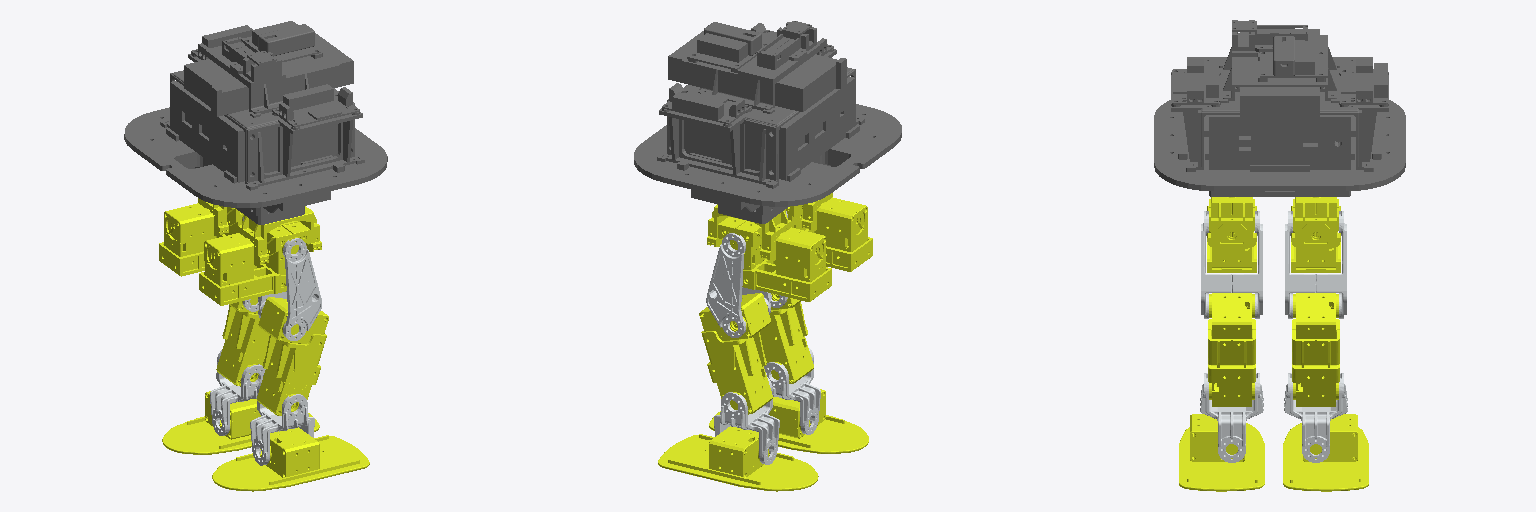
The robot description file, URDF, robot "exhx5_w_b_16":
<?xml version="1.0" encoding="utf-8"?>
<!-- This URDF was automatically created by SolidWorks to URDF Exporter! Originally created by [author] ([email redacted]) 
     Commit Version: 1.5.1-0-g916b5db  Build Version: 1.5.7152.31018
     For more information, please see http://wiki.ros.org/sw_urdf_exporter -->
<robot
  name="exhx5_w_b_16">
  <link
    name="body_link">
    <inertial>
      <origin
        xyz="0.00043545 0.00025536 0.10071"
        rpy="0 0 0" />
      <mass
        value="1.8238" />
      <inertia
        ixx="0.0025905"
        ixy="-5.6852E-06"
        ixz="-1.3106E-05"
        iyy="0.0024595"
        iyz="-1.261E-06"
        izz="0.0046407" />
    </inertial>
    <visual>
      <origin
        xyz="0 0 0"
        rpy="0 0 0" />
      <geometry>
        <mesh
          filename="../meshes/body_link.STL" />
      </geometry>
      <material
        name="">
        <color
          rgba="0.49804 0.49804 0.49804 1" />
      </material>
    </visual>
    <collision>
      <origin
        xyz="0 0 0"
        rpy="0 0 0" />
      <geometry>
        <mesh
          filename="../meshes/body_link.STL" />
      </geometry>
    </collision>
  </link>

  <link
    name="imu_link">
    <inertial>
      <origin
        xyz="-0.008387 1.336E-17 -0.0069463"
        rpy="0 0 0" />
      <mass
        value="0.0062931" />
      <inertia
        ixx="3.2242E-07"
        ixy="3.3527E-22"
        ixz="-6.9193E-08"
        iyy="9.2229E-07"
        iyz="-8.0392E-22"
        izz="1.1018E-06" />
    </inertial>
    <visual>
      <origin
        xyz="0 0 0"
        rpy="0 0 0" />
      <geometry>
        <mesh
          filename="../meshes/imu_link.STL" />
      </geometry>
      <material
        name="">
        <color
          rgba="0.79216 0.81961 0.93333 1" />
      </material>
    </visual>
    <collision>
      <origin
        xyz="0 0 0"
        rpy="0 0 0" />
      <geometry>
        <mesh
          filename="../meshes/imu_link.STL" />
      </geometry>
    </collision>
  </link>
  <joint
    name="imu"
    type="fixed">
    <origin
      xyz="0 0 0.0492"
      rpy="0 0 0" />
    <parent
      link="body_link" />
    <child
      link="imu_link" />
    <axis
      xyz="0 0 0" />
    <limit
      lower="-3.14"
      upper="3.14"
      effort="4"
      velocity="4" />
  </joint>
  <link
    name="l_hip_g_link">
    <inertial>
      <origin
        xyz="-0.0043797 -8.6604E-08 0.011813"
        rpy="0 0 0" />
      <mass
        value="0.061008" />
      <inertia
        ixx="1.167E-05"
        ixy="7.1767E-11"
        ixz="9.1442E-09"
        iyy="2.2342E-05"
        iyz="2.5177E-11"
        izz="2.4892E-05" />
    </inertial>
    <visual>
      <origin
        xyz="0 0 0"
        rpy="0 0 0" />
      <geometry>
        <mesh
          filename="../meshes/l_hip_g_link.STL" />
      </geometry>
      <material
        name="">
        <color
          rgba="0.9451 1 0.18431 1" />
      </material>
    </visual>
    <collision>
      <origin
        xyz="0 0 0"
        rpy="0 0 0" />
      <geometry>
        <mesh
          filename="../meshes/l_hip_g_link.STL" />
      </geometry>
    </collision>
  </link>
  <joint
    name="l_hip_g"
    type="fixed">
    <origin
      xyz="-.001 .030 0"
      rpy="0 0 0" />
    <parent
      link="body_link" />
    <child
      link="l_hip_g_link" />
    <axis
      xyz="0 0 0" />
  </joint>
  <link
    name="l_hip_roll_link">
    <inertial>
      <origin
        xyz="0.013831 0.00033457 0.025453"
        rpy="0 0 0" />
      <mass
        value="0.2969" />
      <inertia
        ixx="7.8136E-05"
        ixy="7.265E-07"
        ixz="-6.9809E-08"
        iyy="9.2183E-05"
        iyz="-5.6881E-11"
        izz="7.1034E-05" />
    </inertial>
    <visual>
      <origin
        xyz="0 0 0"
        rpy="0 0 0" />
      <geometry>
        <mesh
          filename="../meshes/l_hip_roll_link.STL" />
      </geometry>
      <material
        name="">
        <color
          rgba="0.9451 1 0.18431 1" />
      </material>
    </visual>
    <collision>
      <origin
        xyz="0 0 0"
        rpy="0 0 0" />
      <geometry>
        <mesh
          filename="../meshes/l_hip_roll_link.STL" />
      </geometry>
    </collision>
  </link>
  <joint
    name="l_hip_roll"
    type="revolute">
    <origin
      xyz="0 0 0"
      rpy="3.1416 1.5708 0" />
    <parent
      link="l_hip_g_link" />
    <child
      link="l_hip_roll_link" />
    <axis
      xyz="0 0 1" />
    <limit
      lower="-3.14"
      upper="3.14"
      effort="4"
      velocity="4" />
  </joint>
  <link
    name="l_hip_pitch_link">
    <inertial>
      <origin
        xyz="0.041225 -0.007321 -5.0713E-08"
        rpy="0 0 0" />
      <mass
        value="0.051592" />
      <inertia
        ixx="2.7959E-05"
        ixy="2.0752E-06"
        ixz="-8.0934E-11"
        iyy="4.8156E-05"
        iyz="3.6317E-11"
        izz="2.9604E-05" />
    </inertial>
    <visual>
      <origin
        xyz="0 0 0"
        rpy="0 0 0" />
      <geometry>
        <mesh
          filename="../meshes/l_hip_pitch_link.STL" />
      </geometry>
      <material
        name="">
        <color
          rgba="0.89804 0.91765 0.92941 1" />
      </material>
    </visual>
    <collision>
      <origin
        xyz="0 0 0"
        rpy="0 0 0" />
      <geometry>
        <mesh
          filename="../meshes/l_hip_pitch_link.STL" />
      </geometry>
    </collision>
  </link>
  <joint
    name="l_hip_pitch"
    type="revolute">
    <origin
      xyz="0 0 0"
      rpy="1.5708 0 0" />
    <parent
      link="l_hip_roll_link" />
    <child
      link="l_hip_pitch_link" />
    <axis
      xyz="0 0 1" />
    <limit
      lower="-3.14"
      upper="3.14"
      effort="4"
      velocity="4" />
  </joint>
  <link
    name="l_knee_link">
    <inertial>
      <origin
        xyz="0.033756 -0.0084189 -6.6115E-09"
        rpy="0 0 0" />
      <mass
        value="0.28878" />
      <inertia
        ixx="6.6724E-05"
        ixy="7.5004E-07"
        ixz="-8.4578E-07"
        iyy="6.5699E-05"
        iyz="4.1085E-07"
        izz="7.0381E-05" />
    </inertial>
    <visual>
      <origin
        xyz="0 0 0"
        rpy="0 0 0" />
      <geometry>
        <mesh
          filename="../meshes/l_knee_link.STL" />
      </geometry>
      <material
        name="">
        <color
          rgba="0.9451 1 0.18431 1" />
      </material>
    </visual>
    <collision>
      <origin
        xyz="0 0 0"
        rpy="0 0 0" />
      <geometry>
        <mesh
          filename="../meshes/l_knee_link.STL" />
      </geometry>
    </collision>
  </link>
  <joint
    name="l_knee"
    type="revolute">
    <origin
      xyz="0.075954 0 0"
      rpy="0 0 0" />
    <parent
      link="l_hip_pitch_link" />
    <child
      link="l_knee_link" />
    <axis
      xyz="0 0 1" />
    <limit
      lower="-3.14"
      upper="3.14"
      effort="4"
      velocity="4" />
  </joint>
  <link
    name="l_ank_pitch_link">
    <inertial>
      <origin
        xyz="0.022786 -7.3909E-09 -7.1981E-06"
        rpy="0 0 0" />
      <mass
        value="0.044772" />
      <inertia
        ixx="1.777E-05"
        ixy="8.555E-14"
        ixz="-3.3713E-09"
        iyy="1.7119E-05"
        iyz="1.7593E-11"
        izz="1.8661E-05" />
    </inertial>
    <visual>
      <origin
        xyz="0 0 0"
        rpy="0 0 0" />
      <geometry>
        <mesh
          filename="../meshes/l_ank_pitch_link.STL" />
      </geometry>
      <material
        name="">
        <color
          rgba="0.89804 0.91765 0.92941 1" />
      </material>
    </visual>
    <collision>
      <origin
        xyz="0 0 0"
        rpy="0 0 0" />
      <geometry>
        <mesh
          filename="../meshes/l_ank_pitch_link.STL" />
      </geometry>
    </collision>
  </link>
  <joint
    name="l_ank_pitch"
    type="revolute">
    <origin
      xyz="0.074602 0 0"
      rpy="3.1416 0 0" />
    <parent
      link="l_knee_link" />
    <child
      link="l_ank_pitch_link" />
    <axis
      xyz="0 0 1" />
    <limit
      lower="-3.14"
      upper="3.14"
      effort="4"
      velocity="4" />
  </joint>
  <link
    name="l_ank_roll_link">
    <inertial>
      <origin
        xyz="0.0047069 0.010728 0.0015299"
        rpy="0 0 0" />
      <mass
        value="0.16774" />
      <inertia
        ixx="0.00012039"
        ixy="-3.7428E-09"
        ixz="4.4069E-08"
        iyy="8.7735E-05"
        iyz="7.0469E-07"
        izz="4.7866E-05" />
    </inertial>
    <visual>
      <origin
        xyz="0 0 0"
        rpy="0 0 0" />
      <geometry>
        <mesh
          filename="../meshes/l_ank_roll_link.STL" />
      </geometry>
      <material
        name="">
        <color
          rgba="0.9451 1 0.18431 1" />
      </material>
    </visual>
    <collision>
      <origin
        xyz="0 0 0"
        rpy="0 0 0" />
      <geometry>
        <mesh
          filename="../meshes/l_ank_roll_link.STL" />
      </geometry>
    </collision>
  </link>
  <joint
    name="l_ank_roll"
    type="revolute">
    <origin
      xyz="0.0465 0 0"
      rpy="-1.5708 0 0" />
    <parent
      link="l_ank_pitch_link" />
    <child
      link="l_ank_roll_link" />
    <axis
      xyz="0 0 1" />
    <limit
      lower="-3.14"
      upper="3.14"
      effort="4"
      velocity="4" />
  </joint>
  <link
    name="r_hip_g_link">
    <inertial>
      <origin
        xyz="-0.0043797 -8.6604E-08 0.011813"
        rpy="0 0 0" />
      <mass
        value="0.061008" />
      <inertia
        ixx="1.167E-05"
        ixy="7.1767E-11"
        ixz="9.1442E-09"
        iyy="2.2342E-05"
        iyz="2.5177E-11"
        izz="2.4892E-05" />
    </inertial>
    <visual>
      <origin
        xyz="0 0 0"
        rpy="0 0 0" />
      <geometry>
        <mesh
          filename="../meshes/r_hip_g_link.STL" />
      </geometry>
      <material
        name="">
        <color
          rgba="0.9451 1 0.18431 1" />
      </material>
    </visual>
    <collision>
      <origin
        xyz="0 0 0"
        rpy="0 0 0" />
      <geometry>
        <mesh
          filename="../meshes/r_hip_g_link.STL" />
      </geometry>
    </collision>
  </link>
  <joint
    name="r_hip_g"
    type="fixed">
    <origin
      xyz="-.001 -.040 0"
      rpy="0 0 0" />
    <parent
      link="body_link" />
    <child
      link="r_hip_g_link" />
    <axis
      xyz="0 0 0" />
  </joint>
  <link
    name="r_hip_roll_link">
    <inertial>
      <origin
        xyz="0.013831 0.00033457 0.025453"
        rpy="0 0 0" />
      <mass
        value="0.2969" />
      <inertia
        ixx="7.8136E-05"
        ixy="7.265E-07"
        ixz="-6.9809E-08"
        iyy="9.2183E-05"
        iyz="-5.6881E-11"
        izz="7.1034E-05" />
    </inertial>
    <visual>
      <origin
        xyz="0 0 0"
        rpy="0 0 0" />
      <geometry>
        <mesh
          filename="../meshes/r_hip_roll_link.STL" />
      </geometry>
      <material
        name="">
        <color
          rgba="0.9451 1 0.18431 1" />
      </material>
    </visual>
    <collision>
      <origin
        xyz="0 0 0"
        rpy="0 0 0" />
      <geometry>
        <mesh
          filename="../meshes/r_hip_roll_link.STL" />
      </geometry>
    </collision>
  </link>
  <joint
    name="r_hip_roll"
    type="revolute">
    <origin
      xyz="0 0 0"
      rpy="3.1416 1.5708 0" />
    <parent
      link="r_hip_g_link" />
    <child
      link="r_hip_roll_link" />
    <axis
      xyz="0 0 1" />
    <limit
      lower="-3.14"
      upper="3.14"
      effort="4"
      velocity="4" />
  </joint>
  <link
    name="r_hip_pitch_link">
    <inertial>
      <origin
        xyz="0.041225 0.007321 5.0713E-08"
        rpy="0 0 0" />
      <mass
        value="0.051592" />
      <inertia
        ixx="2.7959E-05"
        ixy="-2.0752E-06"
        ixz="8.0934E-11"
        iyy="4.8156E-05"
        iyz="3.6317E-11"
        izz="2.9604E-05" />
    </inertial>
    <visual>
      <origin
        xyz="0 0 0"
        rpy="0 0 0" />
      <geometry>
        <mesh
          filename="../meshes/r_hip_pitch_link.STL" />
      </geometry>
      <material
        name="">
        <color
          rgba="0.89804 0.91765 0.92941 1" />
      </material>
    </visual>
    <collision>
      <origin
        xyz="0 0 0"
        rpy="0 0 0" />
      <geometry>
        <mesh
          filename="../meshes/r_hip_pitch_link.STL" />
      </geometry>
    </collision>
  </link>
  <joint
    name="r_hip_pitch"
    type="revolute">
    <origin
      xyz="0 0 0"
      rpy="-1.5708 0 0" />
    <parent
      link="r_hip_roll_link" />
    <child
      link="r_hip_pitch_link" />
    <axis
      xyz="0 0 1" />
    <limit
      lower="-3.14"
      upper="3.14"
      effort="4"
      velocity="4" />
  </joint>
  <link
    name="r_knee_link">
    <inertial>
      <origin
        xyz="0.033757 0.0084176 6.6115E-09"
        rpy="0 0 0" />
      <mass
        value="0.28878" />
      <inertia
        ixx="6.6724E-05"
        ixy="-7.5008E-07"
        ixz="8.458E-07"
        iyy="6.5699E-05"
        iyz="4.1081E-07"
        izz="7.0381E-05" />
    </inertial>
    <visual>
      <origin
        xyz="0 0 0"
        rpy="0 0 0" />
      <geometry>
        <mesh
          filename="../meshes/r_knee_link.STL" />
      </geometry>
      <material
        name="">
        <color
          rgba="0.9451 1 0.18431 1" />
      </material>
    </visual>
    <collision>
      <origin
        xyz="0 0 0"
        rpy="0 0 0" />
      <geometry>
        <mesh
          filename="../meshes/r_knee_link.STL" />
      </geometry>
    </collision>
  </link>
  <joint
    name="r_knee"
    type="revolute">
    <origin
      xyz="0.075954 0 0"
      rpy="0 0 0" />
    <parent
      link="r_hip_pitch_link" />
    <child
      link="r_knee_link" />
    <axis
      xyz="0 0 1" />
    <limit
      lower="-3.14"
      upper="3.14"
      effort="4"
      velocity="4" />
  </joint>
  <link
    name="r_ank_pitch_link">
    <inertial>
      <origin
        xyz="0.025786 -7.3887E-09 -7.1981E-06"
        rpy="0 0 0" />
      <mass
        value="0.044772" />
      <inertia
        ixx="1.777E-05"
        ixy="8.5434E-14"
        ixz="-3.3713E-09"
        iyy="1.7119E-05"
        iyz="1.7592E-11"
        izz="1.8661E-05" />
    </inertial>
    <visual>
      <origin
        xyz="0 0 0"
        rpy="0 0 0" />
      <geometry>
        <mesh
          filename="../meshes/r_ank_pitch_link.STL" />
      </geometry>
      <material
        name="">
        <color
          rgba="0.89804 0.91765 0.92941 1" />
      </material>
    </visual>
    <collision>
      <origin
        xyz="0 0 0"
        rpy="0 0 0" />
      <geometry>
        <mesh
          filename="../meshes/r_ank_pitch_link.STL" />
      </geometry>
    </collision>
  </link>
  <joint
    name="r_ank_pitch"
    type="revolute">
    <origin
      xyz="0.071602 0 0"
      rpy="3.1416 0 0" />
    <parent
      link="r_knee_link" />
    <child
      link="r_ank_pitch_link" />
    <axis
      xyz="0 0 1" />
    <limit
      lower="-3.14"
      upper="3.14"
      effort="4"
      velocity="4" />
  </joint>
  <link
    name="r_ank_roll_link">
    <inertial>
      <origin
        xyz="0.0077069 -0.010728 0.0015299"
        rpy="0 0 0" />
      <mass
        value="0.16774" />
      <inertia
        ixx="0.00012039"
        ixy="3.743E-09"
        ixz="4.407E-08"
        iyy="8.7735E-05"
        iyz="-7.0467E-07"
        izz="4.7866E-05" />
    </inertial>
    <visual>
      <origin
        xyz="0 0 0"
        rpy="0 0 0" />
      <geometry>
        <mesh
          filename="../meshes/r_ank_roll_link.STL" />
      </geometry>
      <material
        name="">
        <color
          rgba="0.9451 1 0.18431 1" />
      </material>
    </visual>
    <collision>
      <origin
        xyz="0 0 0"
        rpy="0 0 0" />
      <geometry>
        <mesh
          filename="../meshes/r_ank_roll_link.STL" />
      </geometry>
    </collision>
  </link>
  <joint
    name="r_ank_roll"
    type="revolute">
    <origin
      xyz="0.0465 0 0"
      rpy="1.5708 0 0" />
    <parent
      link="r_ank_pitch_link" />
    <child
      link="r_ank_roll_link" />
    <axis
      xyz="0 0 1" />
    <limit
      lower="-3.14"
      upper="3.14"
      effort="4"
      velocity="4" />
  </joint>
  <transmission name="r_hip_roll_tran">
    <type>transmission_interface/SimpleTransmission</type>
    <joint name="r_hip_roll">
      <hardwareInterface>hardware_interface/EffortJointInterface</hardwareInterface>
    </joint>
    <actuator name="r_hip_roll_motor">
      <hardwareInterface>hardware_interface/EffortJointInterface</hardwareInterface>
      <mechanicalReduction>1</mechanicalReduction>
    </actuator>
  </transmission>
  <transmission name="r_hip_pitch_tran">
    <type>transmission_interface/SimpleTransmission</type>
    <joint name="r_hip_pitch">
      <hardwareInterface>hardware_interface/EffortJointInterface</hardwareInterface>
    </joint>
    <actuator name="r_hip_pitch_motor">
      <hardwareInterface>hardware_interface/EffortJointInterface</hardwareInterface>
      <mechanicalReduction>1</mechanicalReduction>
    </actuator>
  </transmission>
  <transmission name="r_knee_tran">
    <type>transmission_interface/SimpleTransmission</type>
    <joint name="r_knee">
      <hardwareInterface>hardware_interface/EffortJointInterface</hardwareInterface>
    </joint>
    <actuator name="r_knee_motor">
      <hardwareInterface>hardware_interface/EffortJointInterface</hardwareInterface>
      <mechanicalReduction>1</mechanicalReduction>
    </actuator>
  </transmission>
  <transmission name="r_ank_pitch_tran">
    <type>transmission_interface/SimpleTransmission</type>
    <joint name="r_ank_pitch">
      <hardwareInterface>hardware_interface/EffortJointInterface</hardwareInterface>
    </joint>
    <actuator name="r_ank_pitch_motor">
      <hardwareInterface>hardware_interface/EffortJointInterface</hardwareInterface>
      <mechanicalReduction>1</mechanicalReduction>
    </actuator>
  </transmission>
  <transmission name="r_ank_roll_tran">
    <type>transmission_interface/SimpleTransmission</type>
    <joint name="r_ank_roll">
      <hardwareInterface>hardware_interface/EffortJointInterface</hardwareInterface>
    </joint>
    <actuator name="r_ank_roll_motor">
      <hardwareInterface>hardware_interface/EffortJointInterface</hardwareInterface>
      <mechanicalReduction>1</mechanicalReduction>
    </actuator>
  </transmission>
  <transmission name="l_hip_roll_tran">
    <type>transmission_interface/SimpleTransmission</type>
    <joint name="l_hip_roll">
      <hardwareInterface>hardware_interface/EffortJointInterface</hardwareInterface>
    </joint>
    <actuator name="l_hip_roll_motor">
      <hardwareInterface>hardware_interface/EffortJointInterface</hardwareInterface>
      <mechanicalReduction>1</mechanicalReduction>
    </actuator>
  </transmission>
  <transmission name="l_hip_pitch_tran">
    <type>transmission_interface/SimpleTransmission</type>
    <joint name="l_hip_pitch">
      <hardwareInterface>hardware_interface/EffortJointInterface</hardwareInterface>
    </joint>
    <actuator name="l_hip_pitch_motor">
      <hardwareInterface>hardware_interface/EffortJointInterface</hardwareInterface>
      <mechanicalReduction>1</mechanicalReduction>
    </actuator>
  </transmission>
  <transmission name="l_knee_tran">
    <type>transmission_interface/SimpleTransmission</type>
    <joint name="l_knee">
      <hardwareInterface>hardware_interface/EffortJointInterface</hardwareInterface>
    </joint>
    <actuator name="l_knee_motor">
      <hardwareInterface>hardware_interface/EffortJointInterface</hardwareInterface>
      <mechanicalReduction>1</mechanicalReduction>
    </actuator>
  </transmission>
  <transmission name="l_ank_pitch_tran">
    <type>transmission_interface/SimpleTransmission</type>
    <joint name="l_ank_pitch">
      <hardwareInterface>hardware_interface/EffortJointInterface</hardwareInterface>
    </joint>
    <actuator name="l_ank_pitch_motor">
      <hardwareInterface>hardware_interface/EffortJointInterface</hardwareInterface>
      <mechanicalReduction>1</mechanicalReduction>
    </actuator>
  </transmission>
  <transmission name="l_ank_roll_tran">
    <type>transmission_interface/SimpleTransmission</type>
    <joint name="l_ank_roll">
      <hardwareInterface>hardware_interface/EffortJointInterface</hardwareInterface>
    </joint>
    <actuator name="l_ank_roll_motor">
      <hardwareInterface>hardware_interface/EffortJointInterface</hardwareInterface>
      <mechanicalReduction>1</mechanicalReduction>
    </actuator>
  </transmission>
</robot>

--- What the picture shows (computed from the rendered views, not written in the file) ---
3 views of the same robot in one strip: view 1: azimuth 30°, elevation 25°; view 2: azimuth 150°, elevation 25°; view 3: azimuth 270°, elevation 25° (orthographic).
Model exhx5_w_b_16 with 14 links and 13 joints (10 revolute, 3 fixed), rooted at body_link, posed all joints at 0.
Links seen in each view (by area): view 1: body_link, r_ank_roll_link, r_hip_roll_link, r_knee_link, l_hip_roll_link, l_ank_roll_link, r_hip_pitch_link, l_knee_link, r_ank_pitch_link, l_ank_pitch_link, r_hip_g_link; view 2: body_link, l_ank_roll_link, l_hip_roll_link, l_knee_link, r_hip_roll_link, r_ank_roll_link, l_hip_pitch_link, r_knee_link, l_ank_pitch_link, r_ank_pitch_link, l_hip_g_link; view 3: body_link, l_knee_link, r_knee_link, l_ank_roll_link, r_ank_roll_link, l_hip_pitch_link, r_hip_pitch_link, l_ank_pitch_link, r_ank_pitch_link, r_hip_g_link, l_hip_g_link, l_hip_roll_link (+1 smaller).
Boxes of the visible links, x1=… form: body_link: x1=124, y1=21, x2=387, y2=224; r_ank_roll_link: x1=212, y1=427, x2=369, y2=491; r_hip_roll_link: x1=199, y1=221, x2=310, y2=305; r_knee_link: x1=257, y1=297, x2=328, y2=415; l_hip_roll_link: x1=159, y1=203, x2=243, y2=276; l_ank_roll_link: x1=162, y1=391, x2=319, y2=454; r_hip_pitch_link: x1=258, y1=238, x2=321, y2=340; l_knee_link: x1=216, y1=297, x2=269, y2=386; r_ank_pitch_link: x1=250, y1=379, x2=314, y2=465; l_ank_pitch_link: x1=210, y1=350, x2=265, y2=435; r_hip_g_link: x1=238, y1=206, x2=321, y2=265; body_link: x1=634, y1=21, x2=901, y2=223; l_ank_roll_link: x1=658, y1=426, x2=818, y2=491; l_hip_roll_link: x1=718, y1=216, x2=831, y2=301; l_knee_link: x1=699, y1=293, x2=772, y2=414; r_hip_roll_link: x1=786, y1=197, x2=872, y2=271; r_ank_roll_link: x1=709, y1=389, x2=868, y2=453; l_hip_pitch_link: x1=706, y1=233, x2=770, y2=337; r_knee_link: x1=760, y1=293, x2=813, y2=383; l_ank_pitch_link: x1=714, y1=377, x2=779, y2=464; r_ank_pitch_link: x1=764, y1=347, x2=820, y2=434; l_hip_g_link: x1=707, y1=204, x2=791, y2=260; body_link: x1=1154, y1=20, x2=1405, y2=196; l_knee_link: x1=1292, y1=293, x2=1339, y2=406; r_knee_link: x1=1208, y1=293, x2=1255, y2=406; l_ank_roll_link: x1=1283, y1=414, x2=1368, y2=491; r_ank_roll_link: x1=1179, y1=414, x2=1264, y2=491; l_hip_pitch_link: x1=1285, y1=211, x2=1346, y2=318; r_hip_pitch_link: x1=1201, y1=211, x2=1262, y2=318; l_ank_pitch_link: x1=1284, y1=373, x2=1347, y2=462; r_ank_pitch_link: x1=1200, y1=373, x2=1263, y2=462; r_hip_g_link: x1=1207, y1=197, x2=1256, y2=246; l_hip_g_link: x1=1291, y1=197, x2=1340, y2=246; l_hip_roll_link: x1=1291, y1=199, x2=1340, y2=272.
Size in the robot's own frame: 0.185 by 0.21 by 0.3893 metres.
14 mesh visuals loaded from 14 distinct referenced files (14 binary STL).